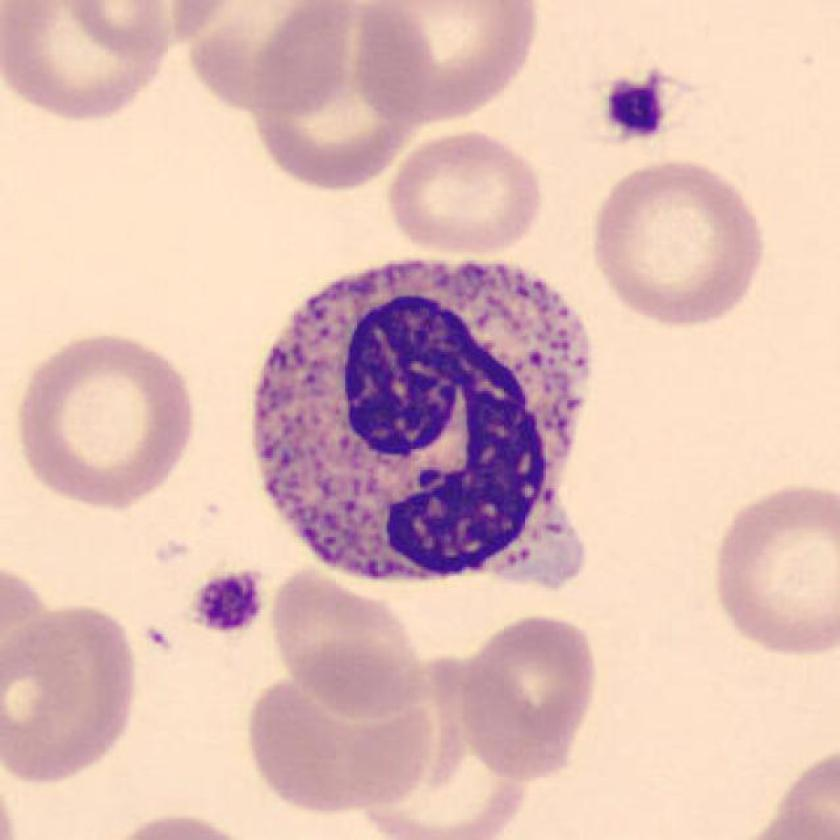neutrophil: (247, 253, 591, 582)
